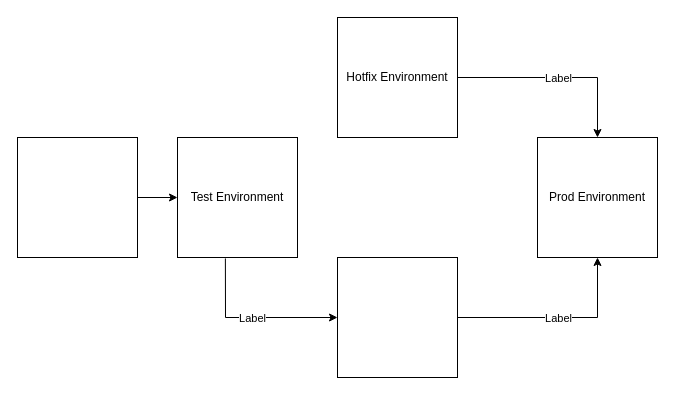
The diagram is 675 pixels wide and 395 high, and some of its shapes have lost their labels. Here are the shapes that lost their labels. From the top down, the box of each, then its label:
(16, 136, 138, 258): Dev Envrionment
(336, 256, 458, 378): Staging Environment
